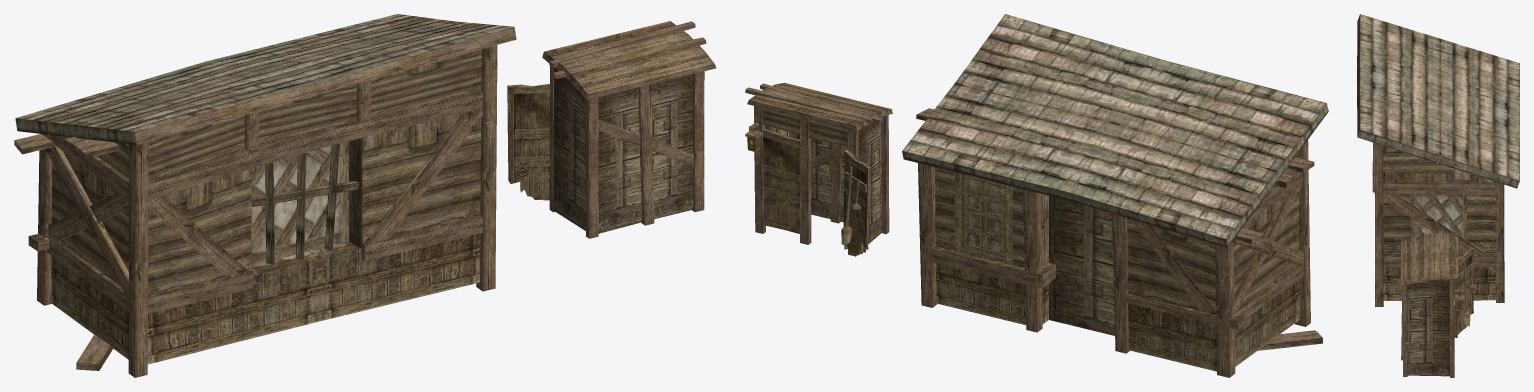
File: S_Build_West090.FBX
3 views of the same model, side by side, from view 1: azimuth 30°, elevation 25°; view 2: azimuth 150°, elevation 25°; view 3: azimuth 270°, elevation 25° (orthographic). The views are drawn at different scales.
Visible parts, largest first — view 1: S_Build_West100, S_Build_West090; view 2: S_Build_West100, S_Build_West090; view 3: S_Build_West100, S_Build_West090.
Boxes of the visible parts, box(x1,y1,x2,y2) form: S_Build_West100: box(14, 14, 516, 377); S_Build_West090: box(507, 21, 716, 238); S_Build_West100: box(902, 14, 1328, 377); S_Build_West090: box(745, 82, 892, 256); S_Build_West100: box(1357, 14, 1519, 306); S_Build_West090: box(1400, 231, 1476, 377).
Bounding box in the file's own units: 1344 × 436 × 530.
